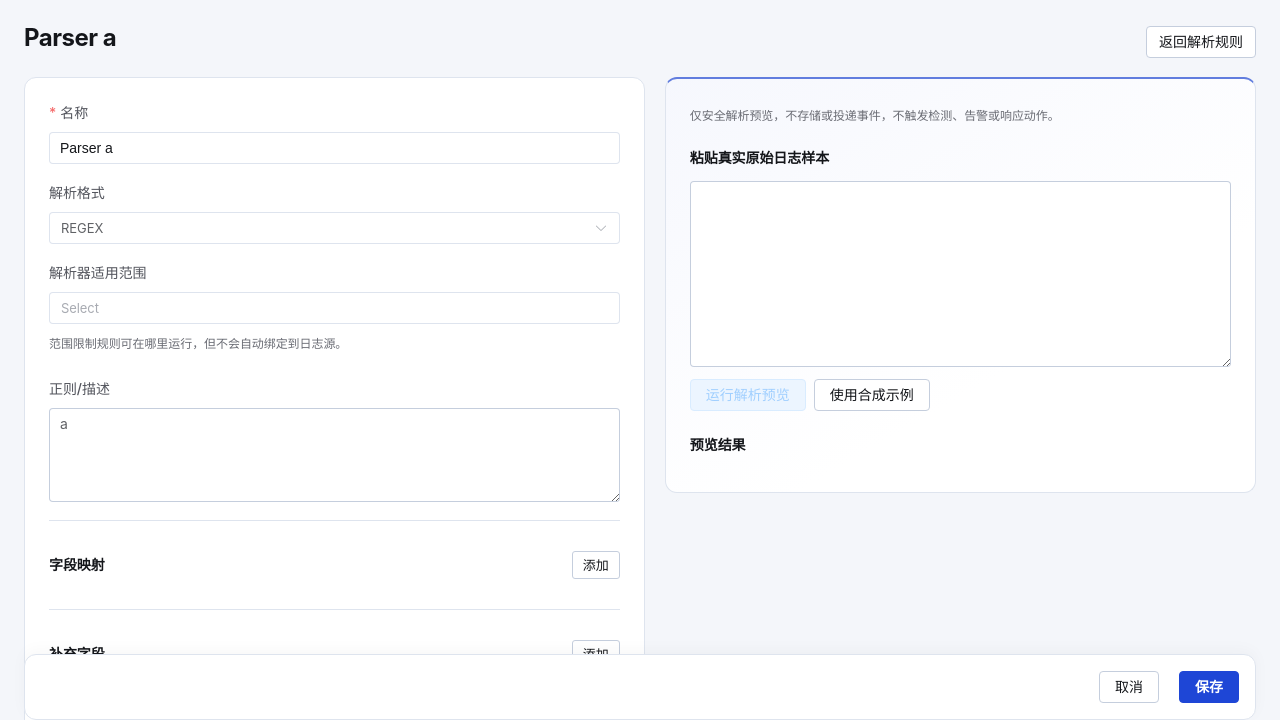
Test: parse editor route ownership › keeps input after a failed save
Step 1. Replace the text in the field labelled "名称" with "Unsaved parser name" → (334, 148), box [60,133,609,163]
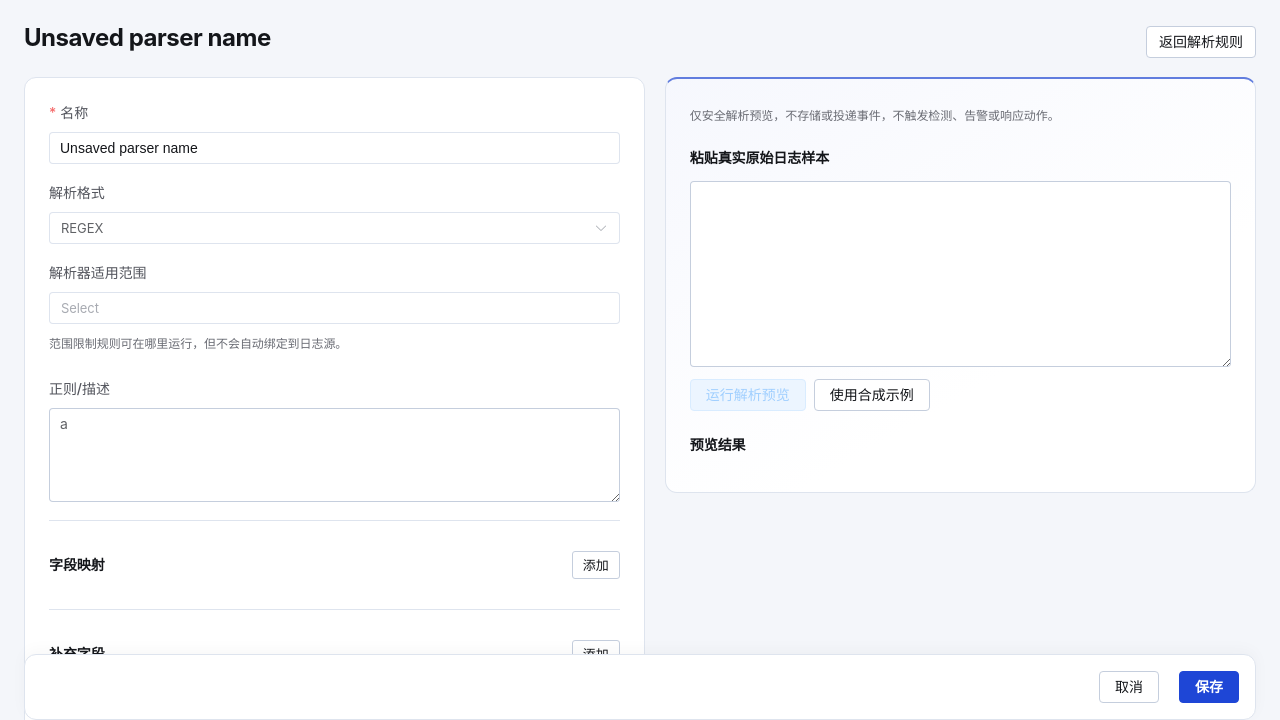
Step 2. Click the button "保存" → (1209, 687), box [1179,671,1239,703]
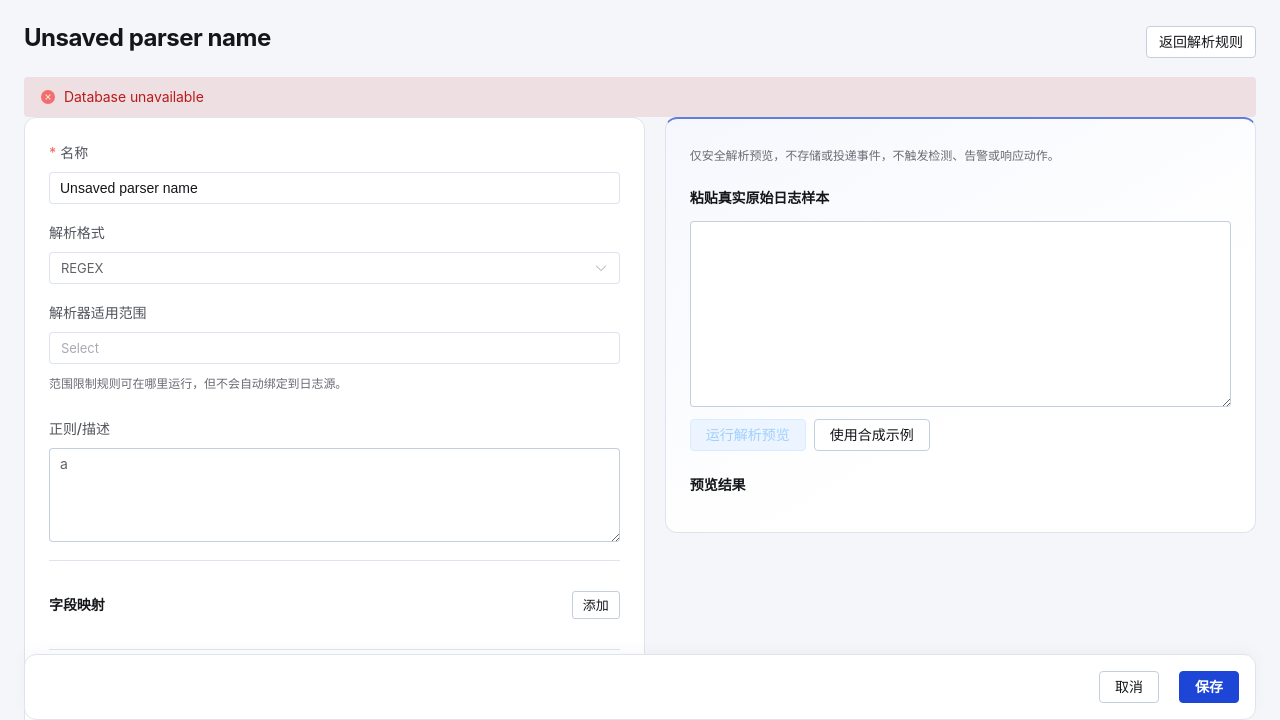
Check: the text "Database unavailable" is shown, box [64,85,204,109]
